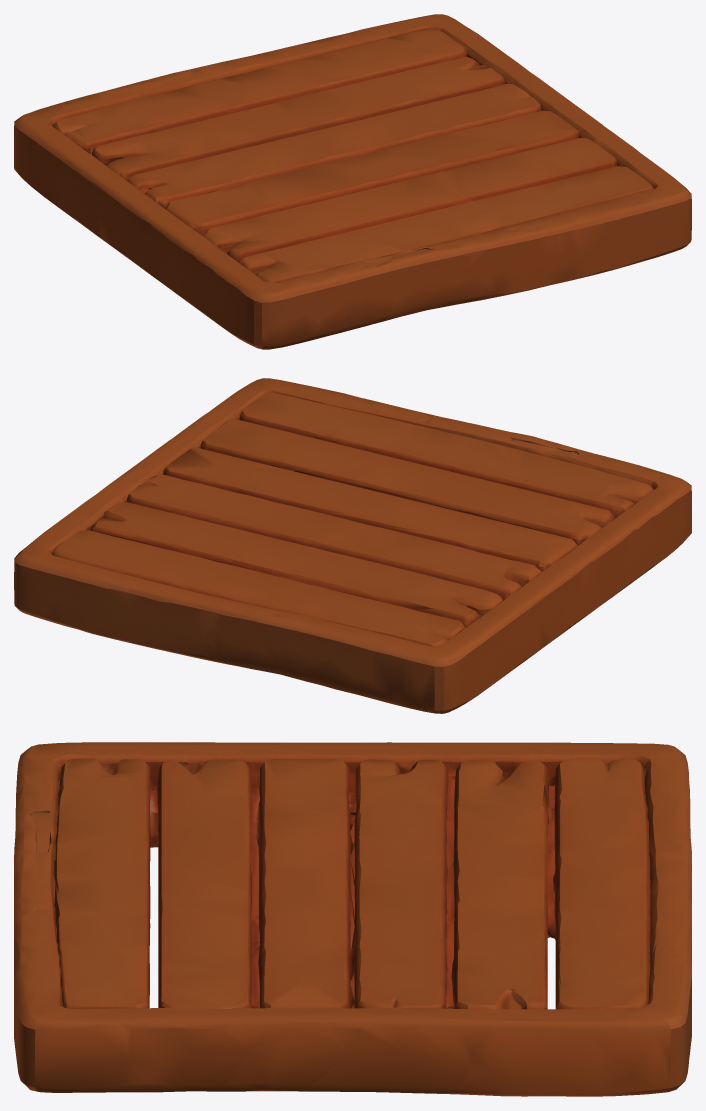
The model's file is PROP_C1_FAKEBRIDGE.glb.
3 views of the same model, one above another, from view 1: azimuth 30°, elevation 25°; view 2: azimuth 150°, elevation 25°; view 3: azimuth 270°, elevation 25° (orthographic). The views are drawn at different scales.
Visible parts, largest first — view 1: world; view 2: world; view 3: world.
Part boxes in pixels (x1,y1,x2,y2): world: (14, 14, 691, 349); world: (14, 378, 691, 713); world: (14, 742, 691, 1096).
Bounding box in the file's own units: 0.9978 × 0.1336 × 1.
Materials: 1 (1 with a texture image).
